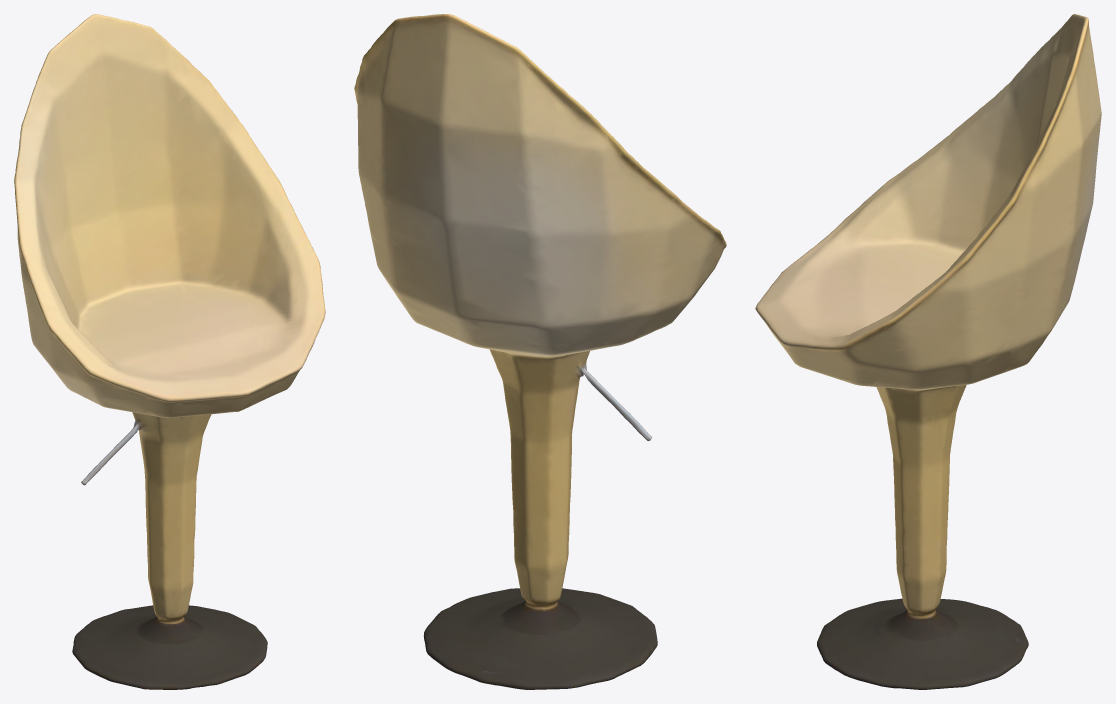
File: chaise_bureau.glb
The picture shows the model from 3 angles, left to right: view 1: azimuth 30°, elevation 25°; view 2: azimuth 150°, elevation 25°; view 3: azimuth 270°, elevation 25°; orthographic projection. The views are drawn at different scales.
Visible parts, largest first — view 1: Object_4; view 2: Object_4; view 3: Object_4.
Boxes of the visible parts, box(x1,y1,x2,y2) form: Object_4: box(14, 14, 325, 689); Object_4: box(354, 14, 726, 689); Object_4: box(755, 14, 1101, 689).
Bounding box in the file's own units: 0.929 × 1.9 × 0.9517.
1 material, 1 textured.
